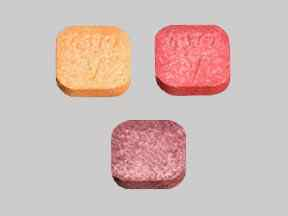Square: (56, 25, 132, 97), (155, 25, 230, 95), (112, 120, 187, 189)
